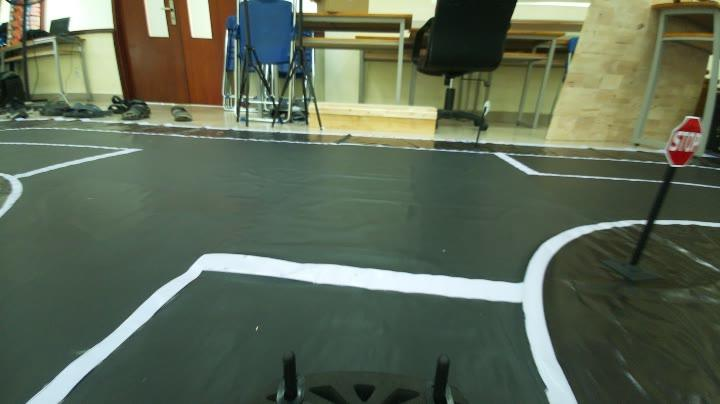stop: (663, 112, 706, 170)
